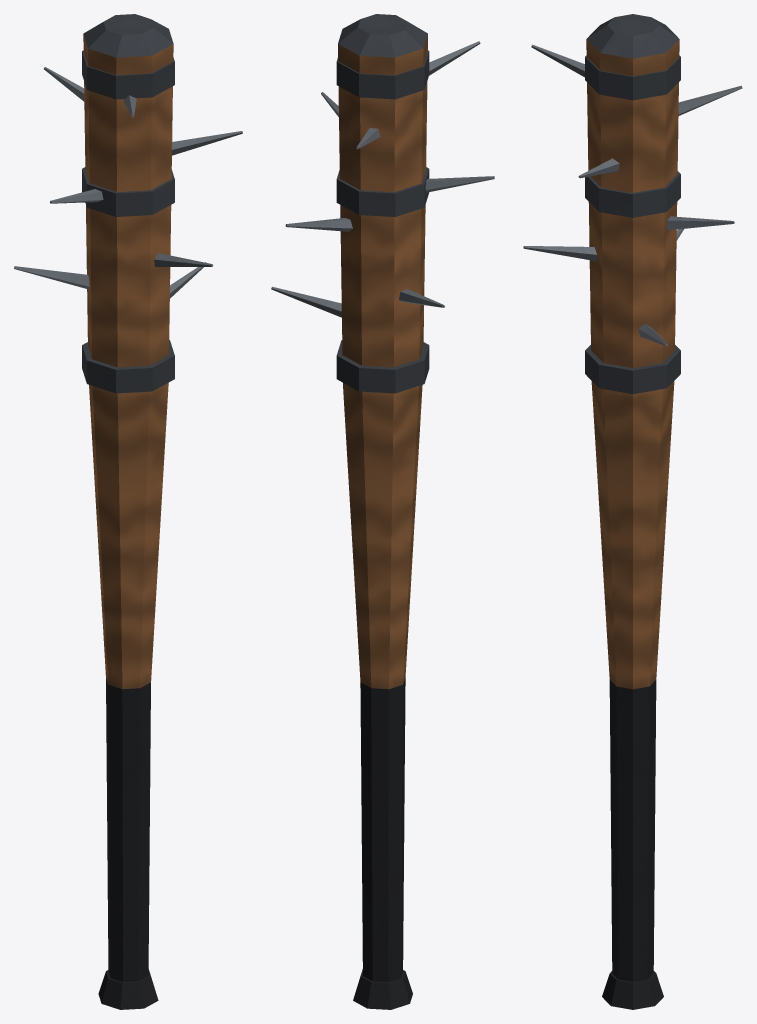
The model's file is weapon_spiked_bat.glb.
3 renders of one model, left to right at view 1: azimuth 30°, elevation 25°; view 2: azimuth 150°, elevation 25°; view 3: azimuth 270°, elevation 25°, orthographic.
Parts seen in each view (by area): view 1: Weapon_SpikedBat; view 2: Weapon_SpikedBat; view 3: Weapon_SpikedBat.
Part boxes in pixels (x1,y1,x2,y2): Weapon_SpikedBat: (14, 14, 242, 1009); Weapon_SpikedBat: (271, 14, 494, 1009); Weapon_SpikedBat: (523, 14, 742, 1009).
Bounding box in the file's own units: 0.169 × 0.827 × 0.169.
4 materials, 4 textured.
